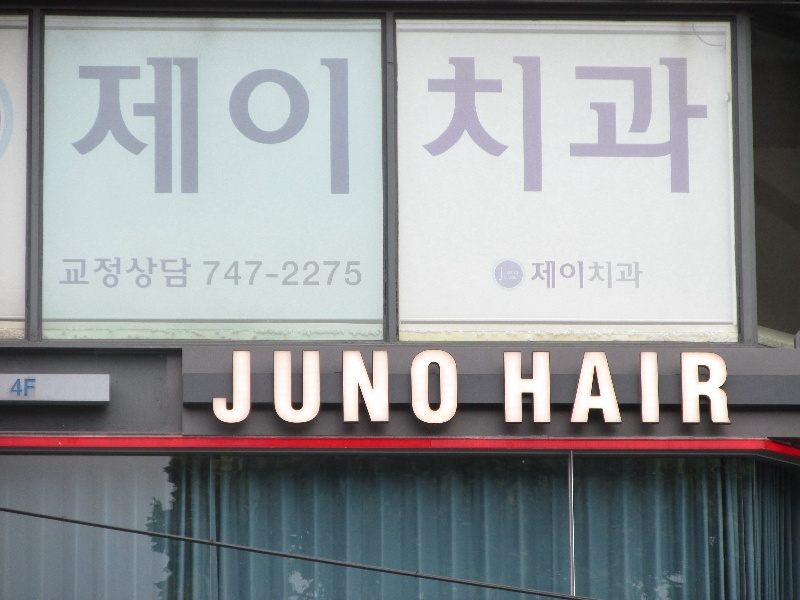text: (433, 52, 448, 201), (449, 52, 464, 201), (465, 52, 480, 201), (481, 52, 496, 201), (497, 52, 512, 201), (513, 52, 528, 201), (529, 52, 544, 201), (545, 52, 560, 201), (561, 52, 576, 201), (577, 52, 592, 201), (593, 52, 608, 201), (609, 52, 624, 201), (625, 52, 640, 201), (641, 52, 656, 201), (657, 52, 672, 201), (673, 52, 688, 201), (689, 52, 704, 201), (81, 54, 96, 202), (97, 54, 112, 202), (113, 54, 128, 202), (129, 54, 144, 202), (145, 54, 160, 202), (161, 54, 176, 202), (177, 54, 192, 202), (193, 54, 208, 202), (209, 54, 224, 202), (225, 54, 240, 202), (241, 54, 256, 202), (257, 54, 272, 202), (273, 54, 288, 202), (289, 54, 304, 202), (305, 54, 320, 202), (321, 54, 336, 202), (337, 54, 352, 202), (421, 52, 432, 201), (72, 54, 80, 202), (209, 348, 224, 426), (225, 348, 240, 426), (241, 348, 256, 426), (257, 348, 272, 426), (273, 348, 288, 426), (289, 348, 304, 426), (305, 348, 320, 426), (321, 348, 336, 426), (337, 348, 352, 426), (353, 348, 368, 426), (369, 348, 384, 426), (385, 348, 400, 426), (401, 348, 416, 426), (417, 348, 432, 426), (433, 348, 448, 426), (513, 350, 528, 427), (529, 350, 544, 427), (545, 350, 560, 427), (561, 350, 576, 427), (577, 350, 592, 427), (593, 350, 608, 427), (609, 350, 624, 427), (625, 350, 640, 427), (641, 350, 656, 427), (657, 350, 672, 427), (673, 350, 688, 427), (689, 350, 704, 427), (705, 350, 720, 427), (705, 52, 712, 201), (721, 350, 734, 427), (449, 348, 459, 426), (502, 350, 512, 427), (65, 257, 80, 290), (81, 257, 96, 290), (97, 257, 112, 290), (113, 257, 128, 290), (129, 257, 144, 290), (145, 257, 160, 290), (161, 257, 176, 290), (177, 257, 192, 290), (209, 258, 224, 288), (225, 258, 240, 288), (241, 258, 256, 288), (257, 258, 272, 288), (273, 258, 288, 288), (289, 258, 304, 288), (305, 258, 320, 288), (321, 258, 336, 288), (337, 258, 352, 288), (545, 261, 560, 289), (561, 261, 576, 289), (577, 261, 592, 289), (593, 261, 608, 289), (609, 261, 624, 289), (625, 261, 640, 289), (531, 261, 544, 289), (353, 258, 364, 288), (17, 377, 32, 397), (500, 266, 512, 282), (202, 258, 208, 288), (9, 377, 16, 397), (60, 257, 64, 290), (33, 377, 37, 397), (641, 261, 643, 289), (504, 275, 512, 280), (193, 257, 194, 290), (504, 271, 512, 275), (513, 275, 518, 280), (513, 271, 519, 275)
